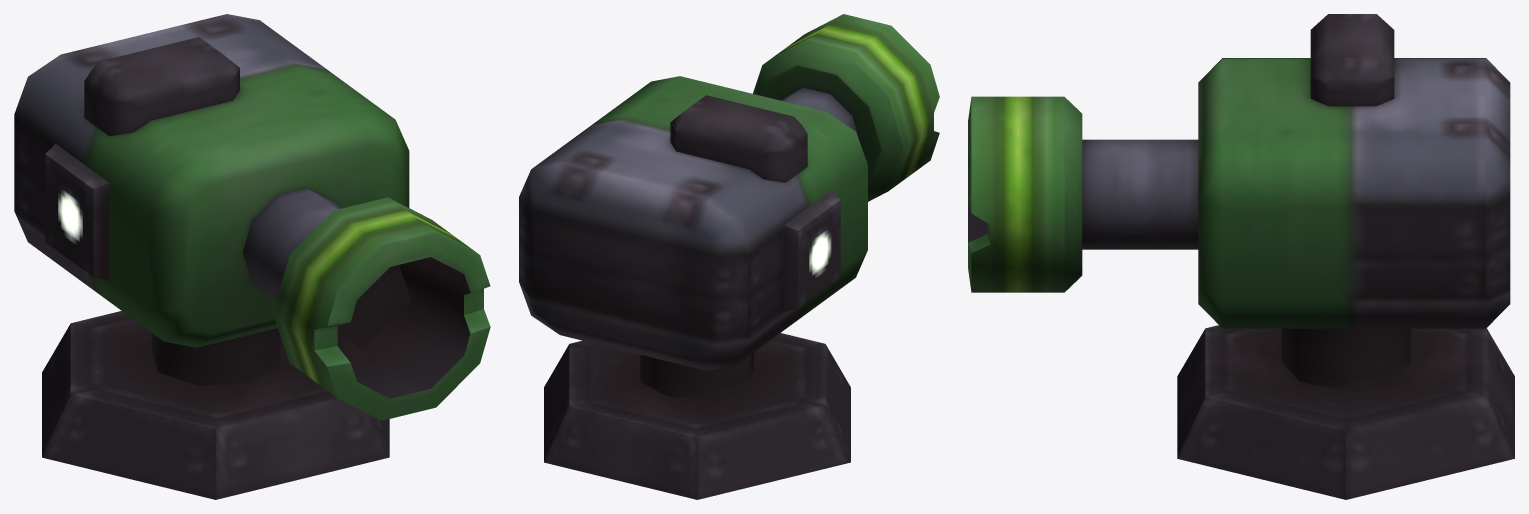
File: Tow_Acid1.fbx
3 renders of one model, left to right at view 1: azimuth 30°, elevation 25°; view 2: azimuth 150°, elevation 25°; view 3: azimuth 270°, elevation 25°, orthographic. The views are drawn at different scales.
Parts seen in each view (by area): view 1: Turret, Base, Barrel; view 2: Turret, Base, Barrel; view 3: Turret, Base, Barrel.
Boxes of the visible parts, <box> form: Turret: <box>14,14,409,347</box>; Base: <box>42,311,389,499</box>; Barrel: <box>242,188,490,420</box>; Turret: <box>519,76,867,370</box>; Base: <box>544,333,850,499</box>; Barrel: <box>753,14,939,201</box>; Turret: <box>1198,14,1510,328</box>; Base: <box>1177,325,1514,499</box>; Barrel: <box>968,96,1198,292</box>.
Size of the model in its own units: 113 by 114 by 158.
Materials: 1 (1 with a texture image).
